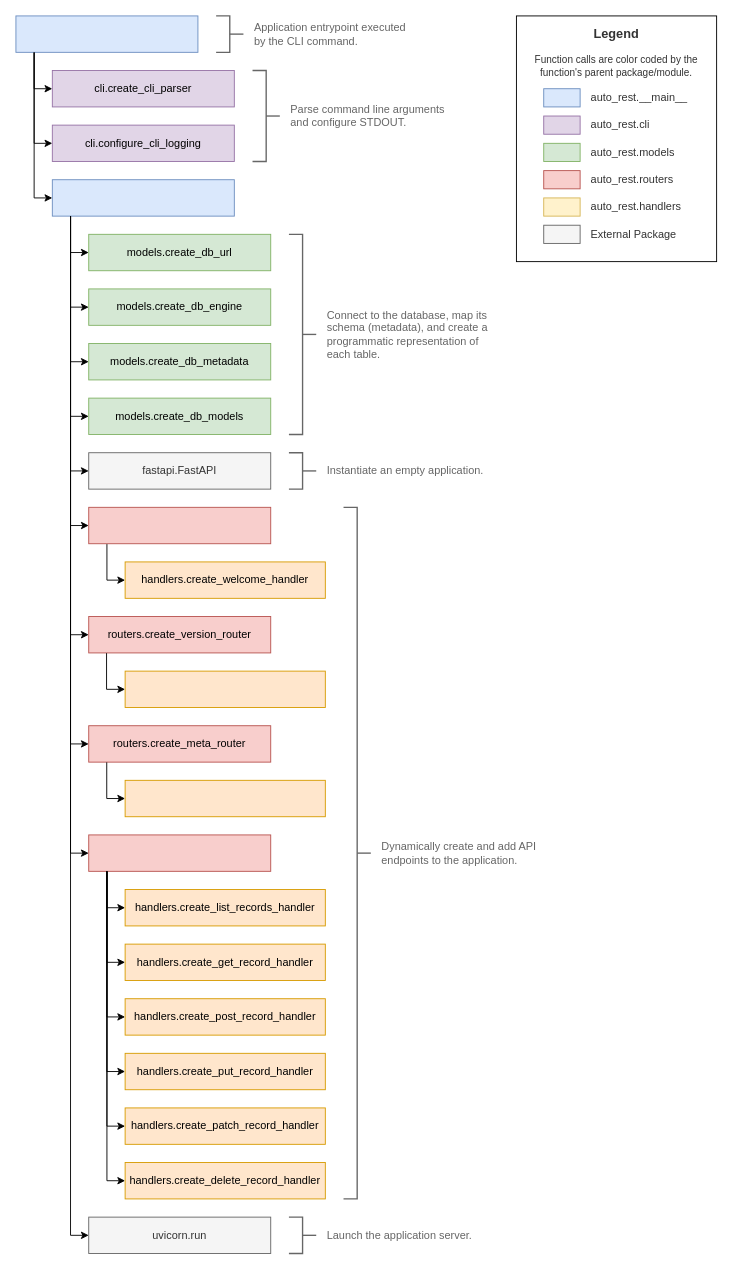
Image size: 733x1270. Some labels were removed from this diagram. Each missing label, with the centre of its shape:
"__main__.main" goes at point (106, 33).
"__main__.run_application" goes at point (142, 197).
"handlers.create_meta_handler" goes at point (224, 798).
"handlers.create_version_handler" goes at point (224, 689).
"routers.create_model_router" goes at point (179, 852).
"routers.create_welcome_router" goes at point (179, 525).
